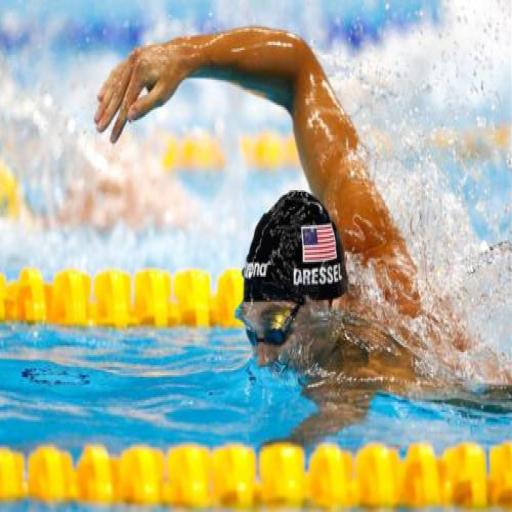swimming: (91, 23, 509, 437)
